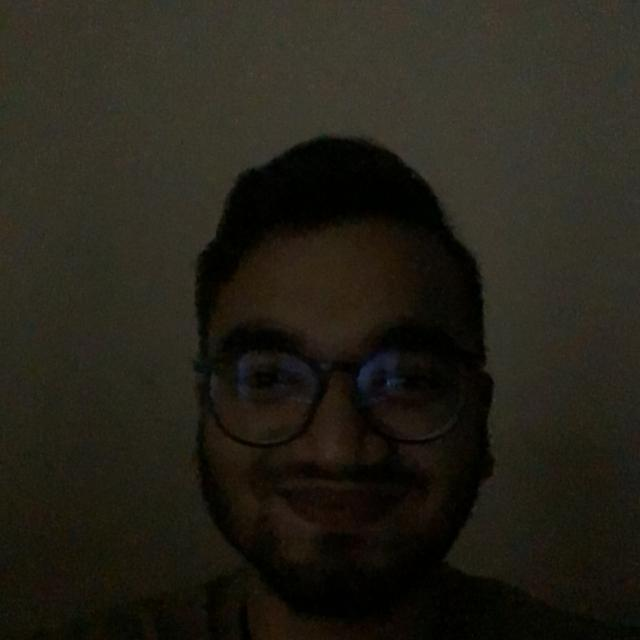happy: (133, 157, 553, 591)
